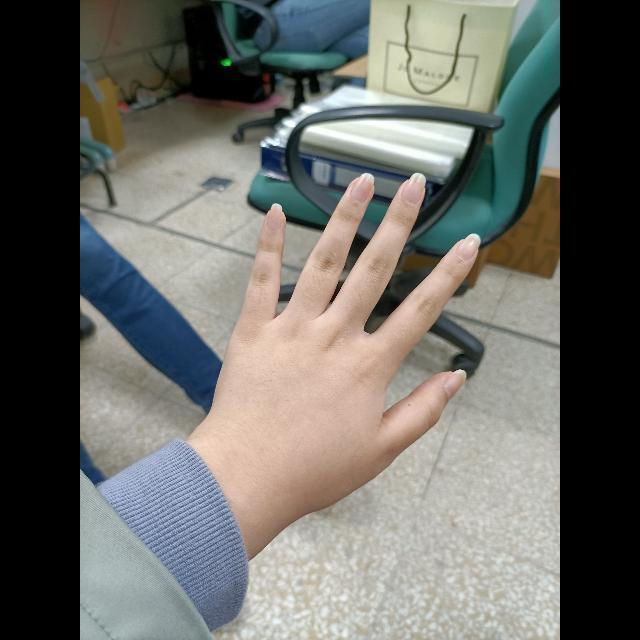bare_hand: (215, 169, 483, 491)
